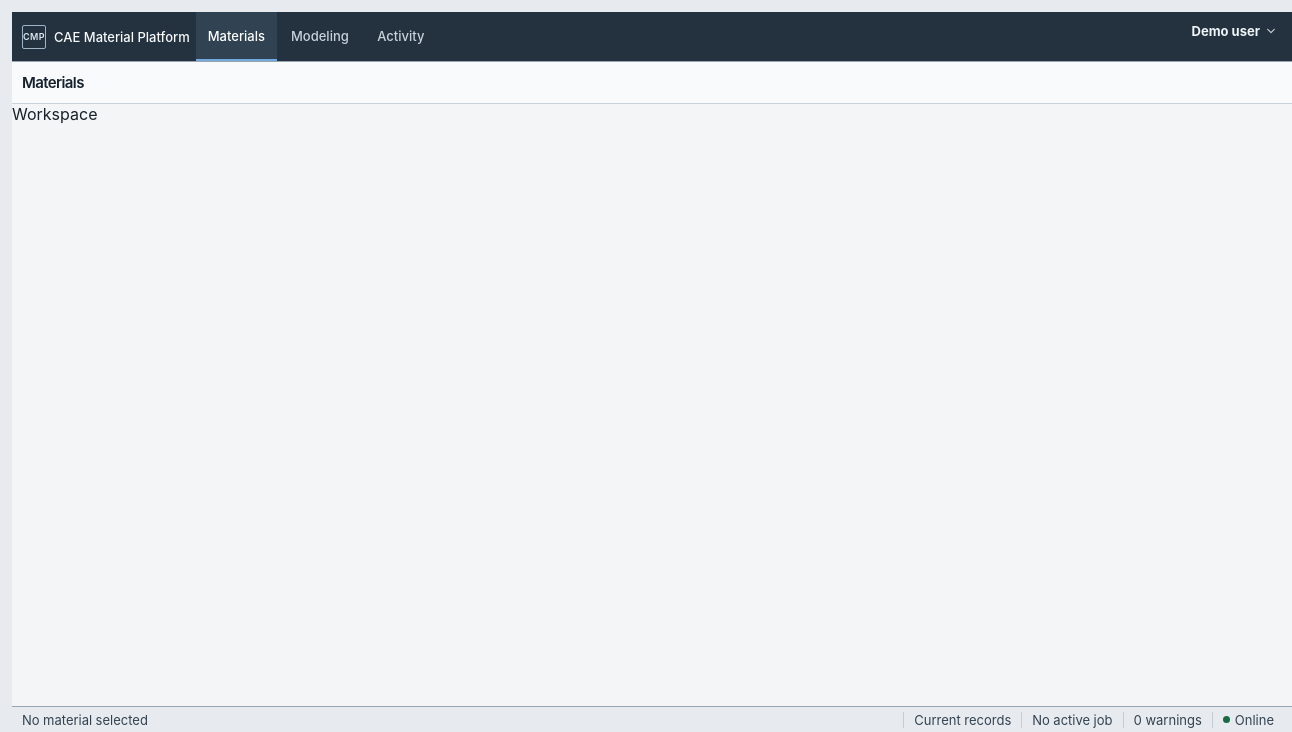
Scenario: display density preference › exposes keyboard-native selection and a density-only reset in the shell
This screenshot has width=1292, height=732.
Click the heading "Demo user".
click(1234, 30)  # box [1184,18,1284,44]
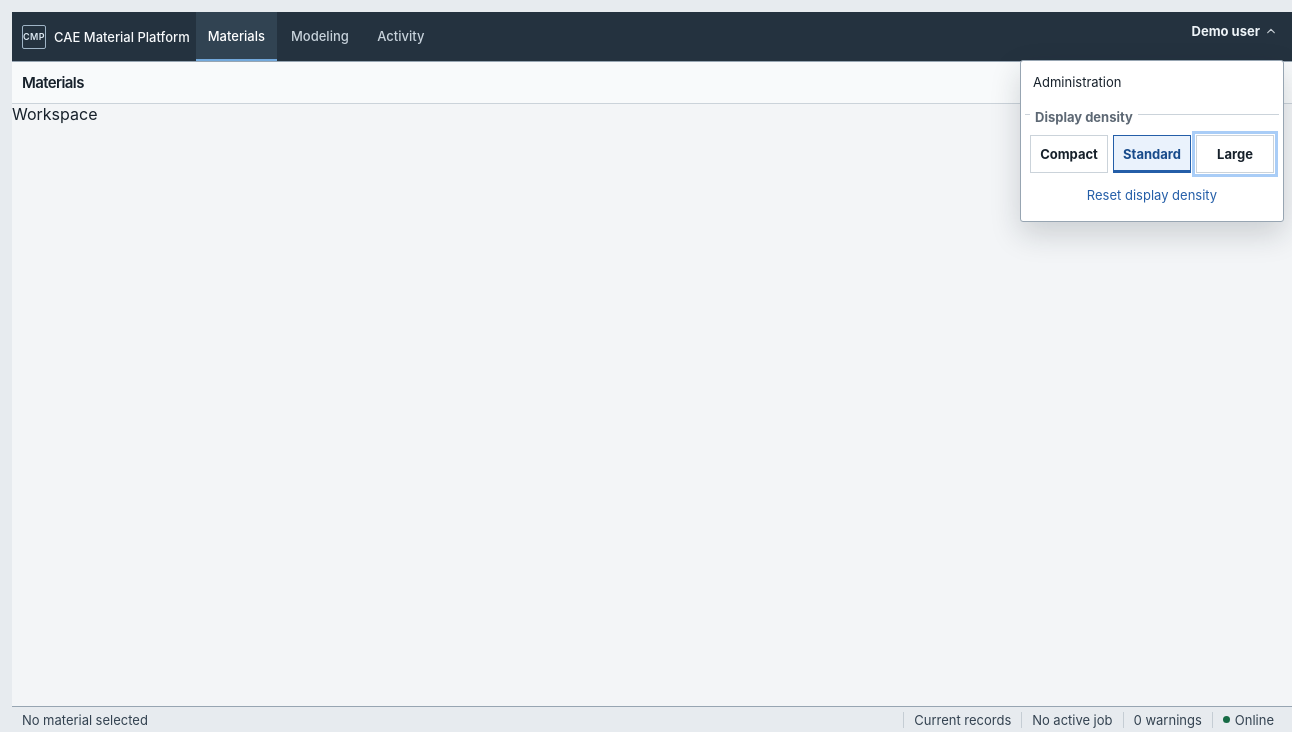
Click the radio button labelled "Large".
click(1235, 154)  # box [1196,134,1274,172]
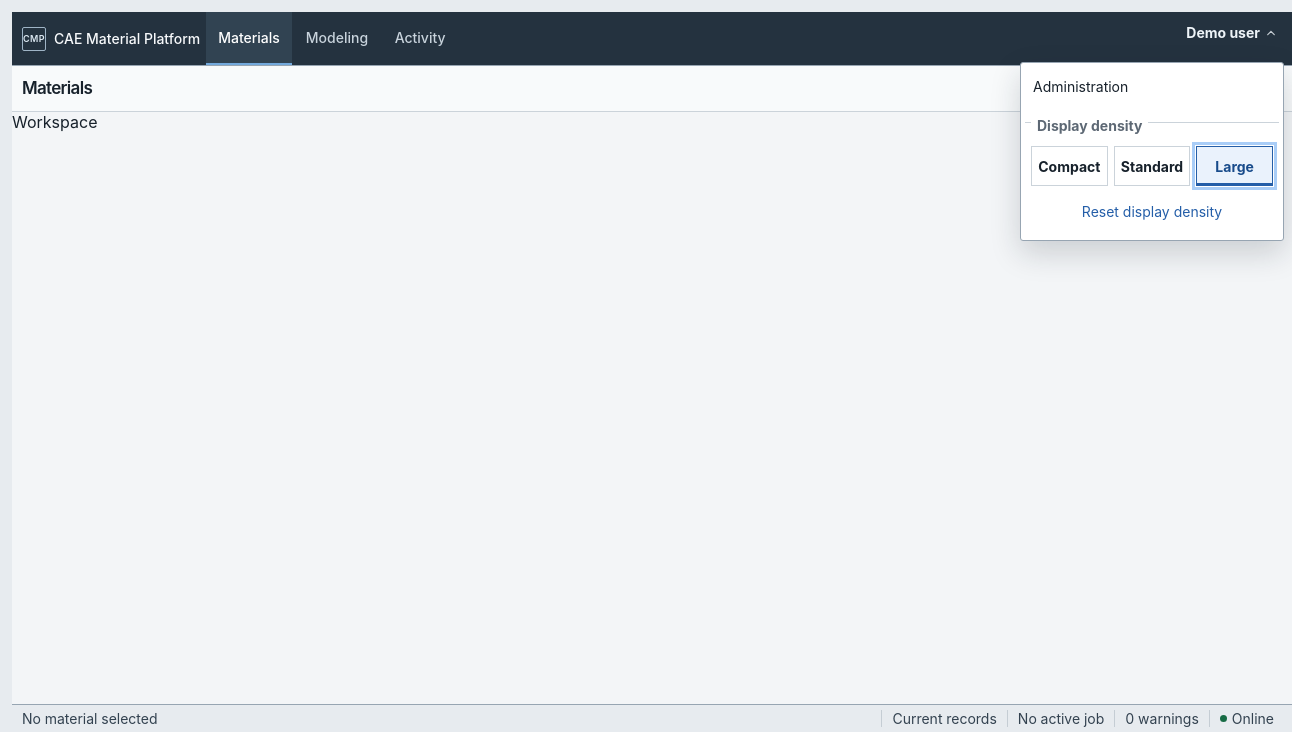
Check: the radio button labelled "Large" is checked
Press Escape in the radio button labelled "Large", box [1196,146,1273,186]
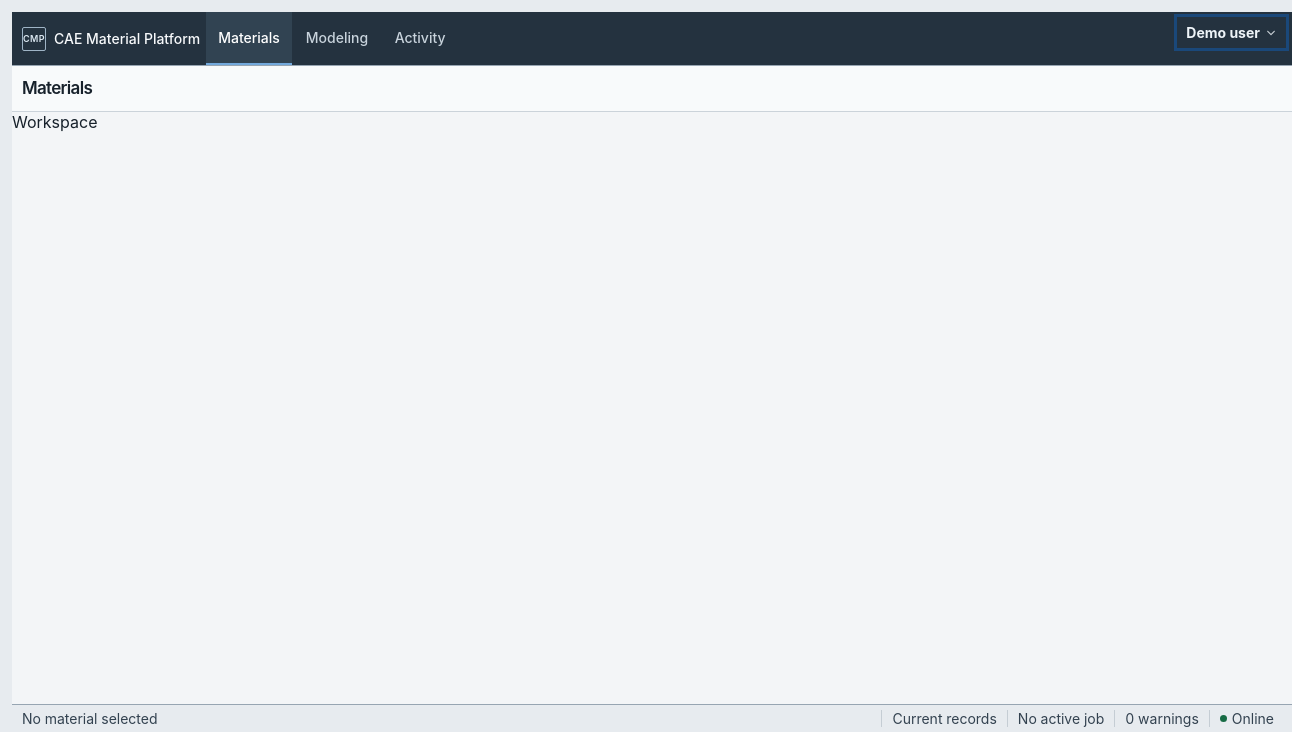
Check: the text "Demo user" does not have attribute open, box [1186,24,1277,41]
Click the heading "Demo user".
click(1232, 32)  # box [1179,19,1284,46]
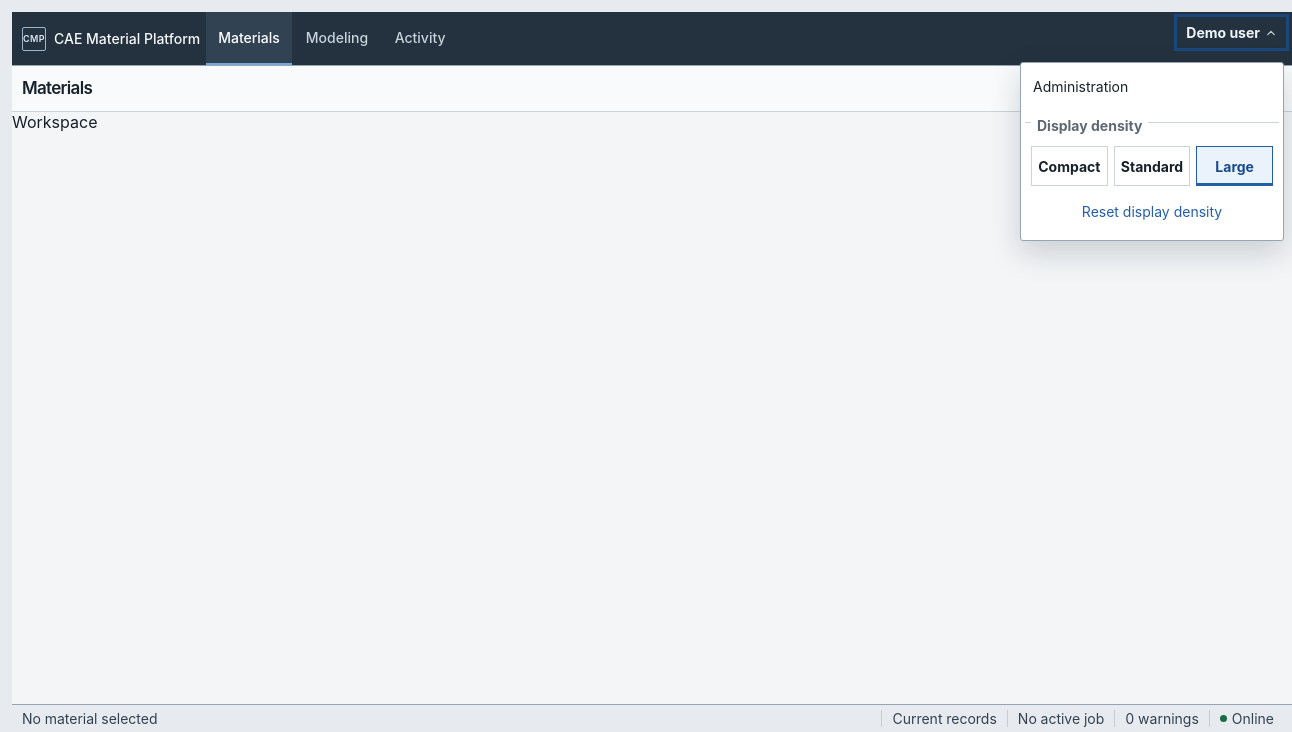
Click the button "Reset display density".
click(1152, 211)  # box [1031,192,1273,230]
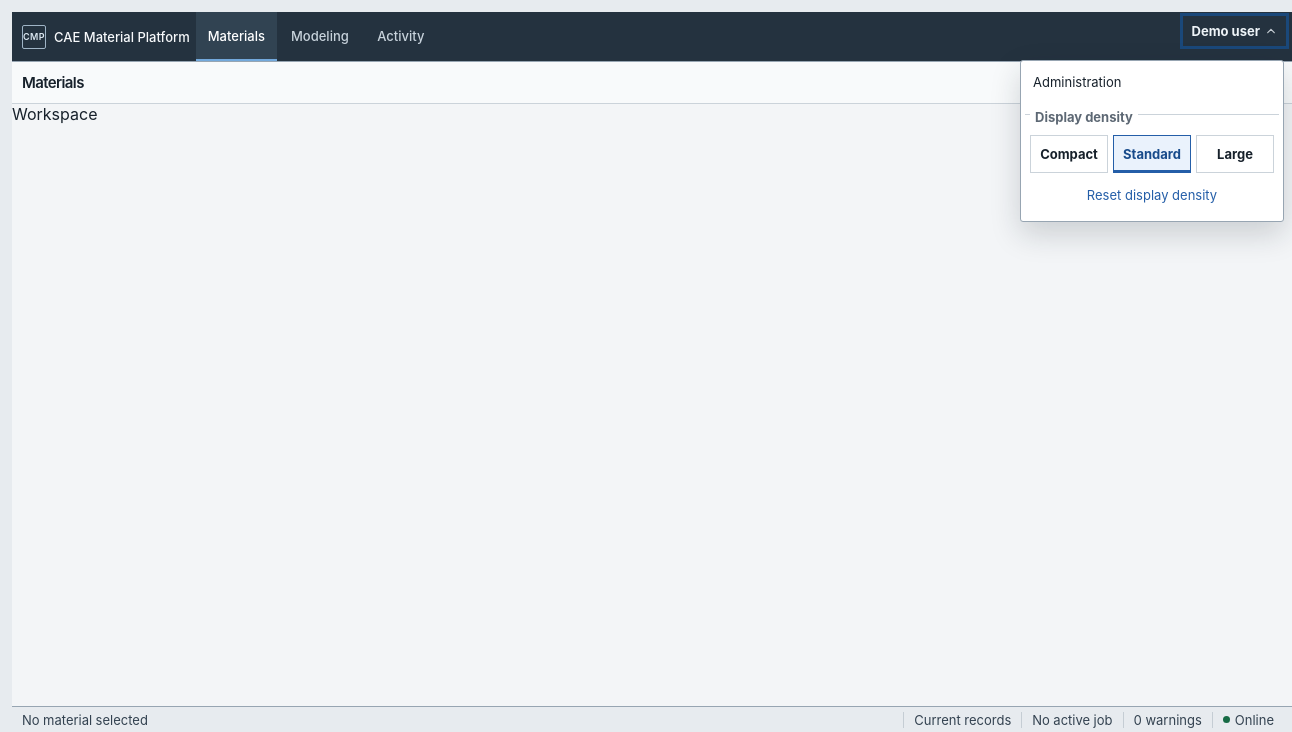
Check: the radio button labelled "Standard" is checked, box [1113,134,1191,172]
